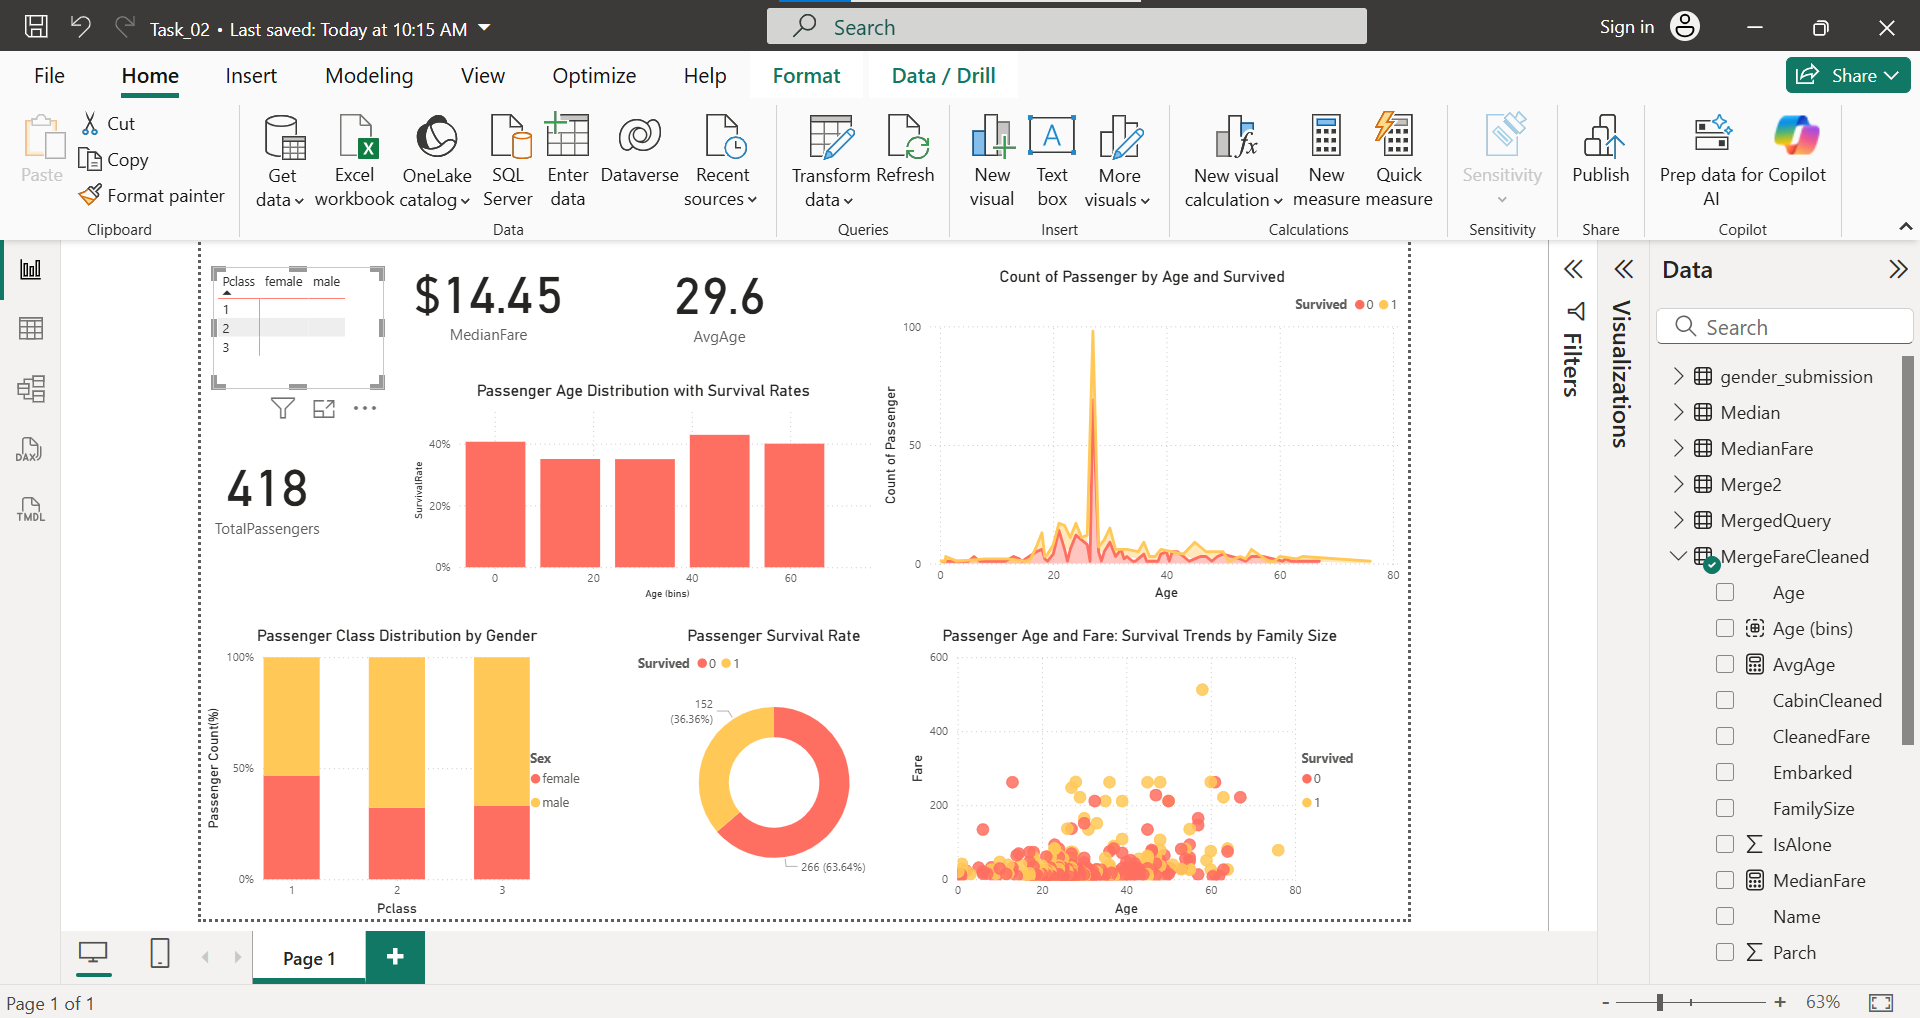

What the dashboard file says about the page in this screenshot:
{"tool":"powerbi","page":{"name":"Page 1","canvas":[1280,720],"ordinal":0},"visuals":[{"type":"donutChart","title":"Passenger Survival Rate","fields":{"Category":["MergeFareCleaned.Survived"],"Y":["CountNonNull(MergeFareCleaned.PassengerId)"]},"box":[457.3,408.2,298.6,283.5],"z":0},{"type":"hundredPercentStackedColumnChart","title":"Passenger Class Distribution by Gender","fields":{"Category":["MergeFareCleaned.Pclass"],"Y":["CountNonNull(MergeFareCleaned.PassengerId)"],"Series":["MergeFareCleaned.Sex"]},"box":[0,408.2,415.8,311.8],"z":1000},{"type":"card","fields":{"Values":["MergeFareCleaned.TotalPassengers"]},"box":[0,160.6,139.8,211.7],"z":2000},{"type":"card","fields":{"Values":["MergeFareCleaned.AVGAgAvgAge"]},"box":[434.6,3.8,230.6,119.1],"z":3000},{"type":"clusteredColumnChart","title":"Passenger Age Distribution with Survival Rates","fields":{"Y":["MergeFareCleaned.SurvivalRate"],"Category":["MergeFareCleaned.AgeCleaned (bins)"]},"box":[219.2,149.3,498.9,236.2],"z":4000},{"type":"scatterChart","title":"Passenger Age and Fare: Survival Trends by Family Size","fields":{"X":["MergeFareCleaned.Age"],"Y":["MergeFareCleaned.CleanedFare"],"Series":["MergeFareCleaned.Survived"],"Size":["CountNonNull(MergeFareCleaned.FamilySize)"]},"box":[746.5,408.2,498.9,311.8],"z":5000},{"type":"pivotTable","fields":{"Columns":["MergeFareCleaned.Sex"],"Rows":["MergeFareCleaned.Pclass"]},"box":[13.2,28.3,181.4,128.5],"z":6000},{"type":"stackedAreaChart","title":"Count of Passenger by Age and Survived","fields":{"Category":["MergeFareCleaned.Age"],"Series":["MergeFareCleaned.Survived"],"Y":["CountNonNull(MergeFareCleaned.PassengerId)"]},"box":[718.1,28.3,561.3,357.2],"z":7000},{"type":"card","fields":{"Values":["MergeFareCleaned.MedianFare"]},"box":[194.6,0,221.1,122.8],"z":8000}]}

Visuals, with their boxes on the page's 1280x720 design canvas (x1, y1, x2, y2). These are canvas units, not pixel positions in the 1920x1018 screenshot, which may show the page scaled, cropped or inside an application window:
"Passenger Survival Rate" donutChart: (x1=457, y1=408, x2=756, y2=692)
"Passenger Class Distribution by Gender" hundredPercentStackedColumnChart: (x1=0, y1=408, x2=416, y2=720)
card - MergeFareCleaned.TotalPassengers: (x1=0, y1=161, x2=140, y2=372)
card - MergeFareCleaned.AVGAgAvgAge: (x1=435, y1=4, x2=665, y2=123)
"Passenger Age Distribution with Survival Rates" clusteredColumnChart: (x1=219, y1=149, x2=718, y2=386)
"Passenger Age and Fare: Survival Trends by Family Size" scatterChart: (x1=746, y1=408, x2=1245, y2=720)
pivotTable - MergeFareCleaned.Sex x MergeFareCleaned.Pclass: (x1=13, y1=28, x2=195, y2=157)
"Count of Passenger by Age and Survived" stackedAreaChart: (x1=718, y1=28, x2=1279, y2=386)
card - MergeFareCleaned.MedianFare: (x1=195, y1=0, x2=416, y2=123)
